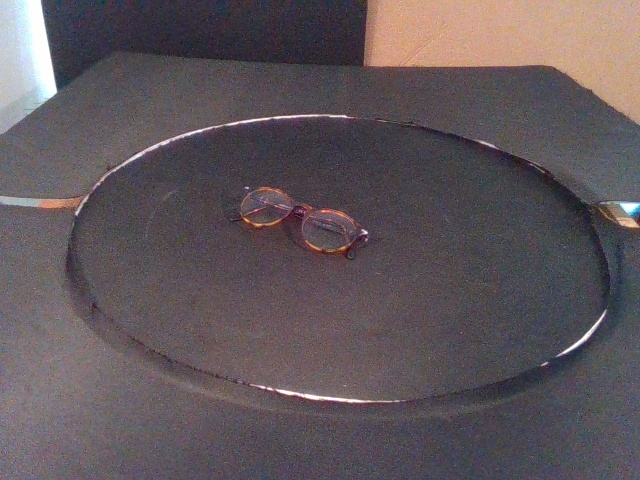glasses: (225, 183, 371, 262)
